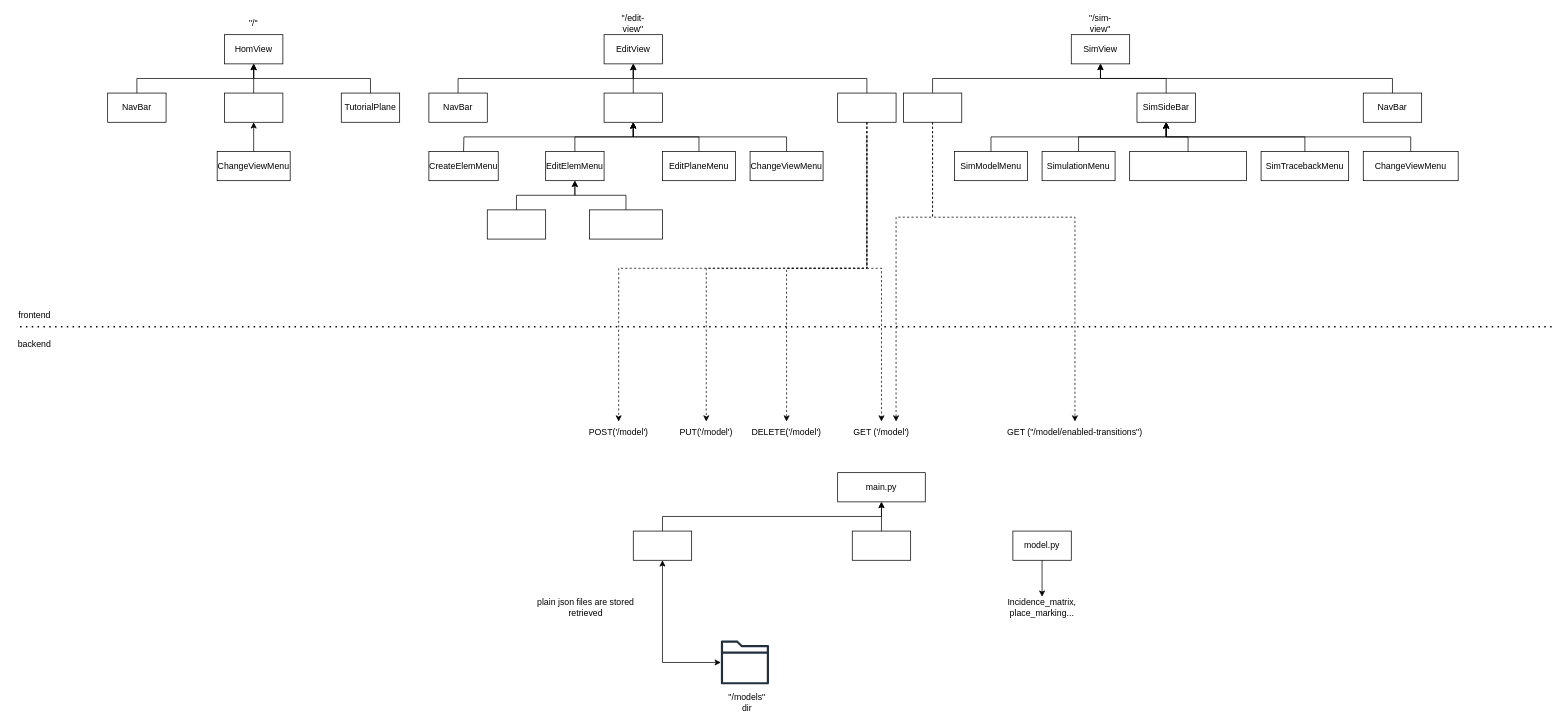
Some shapes in this 1567 by 726 pixel diagram are drawn without their labels. Each missing label, with the centre of its shape:
EditGridPlane: pixel 866 107
EditPlaceMenu: pixel 516 224
EditSideBar: pixel 632 107
EditTransitionMenu: pixel 625 224
file_utils.py: pixel 662 545
HomeSideBar: pixel 253 107
model_utils.py: pixel 881 545
SimEnabledTransitionsMenu: pixel 1187 166
SimGridPlane: pixel 932 107
